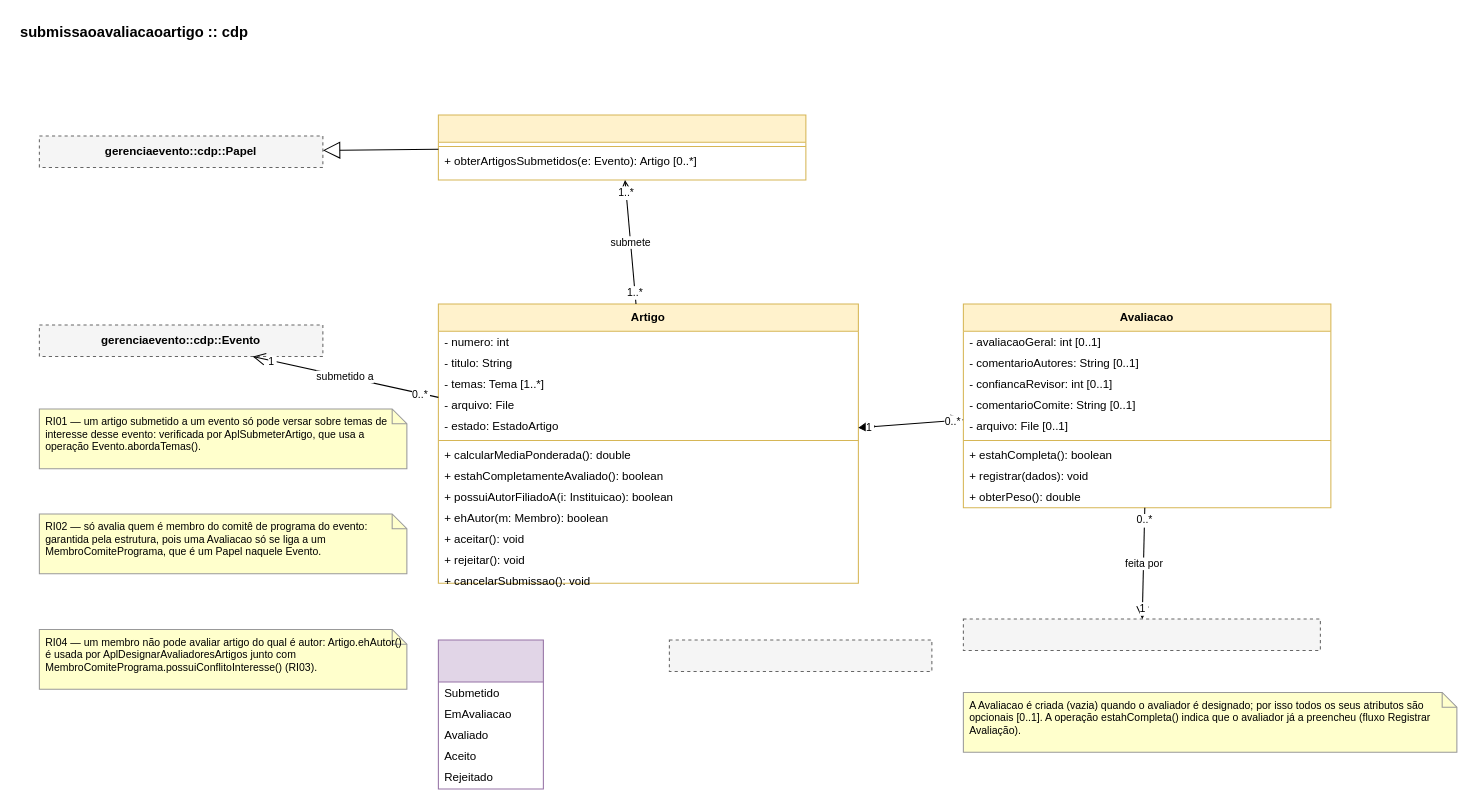
This 1475x807 diagram has some shape labels left out. The shapes that lost their labels are listed below. From the top down, each one's box as (x1, y1, x2, y2) in pixels, then its label:
(437, 114, 806, 180): Autor
(962, 618, 1320, 650): gerenciaevento::cdp::MembroComitePrograma
(668, 639, 932, 671): gerenciaevento::cdp::Tema
(437, 639, 543, 789): «enumeration» EstadoArtigo
